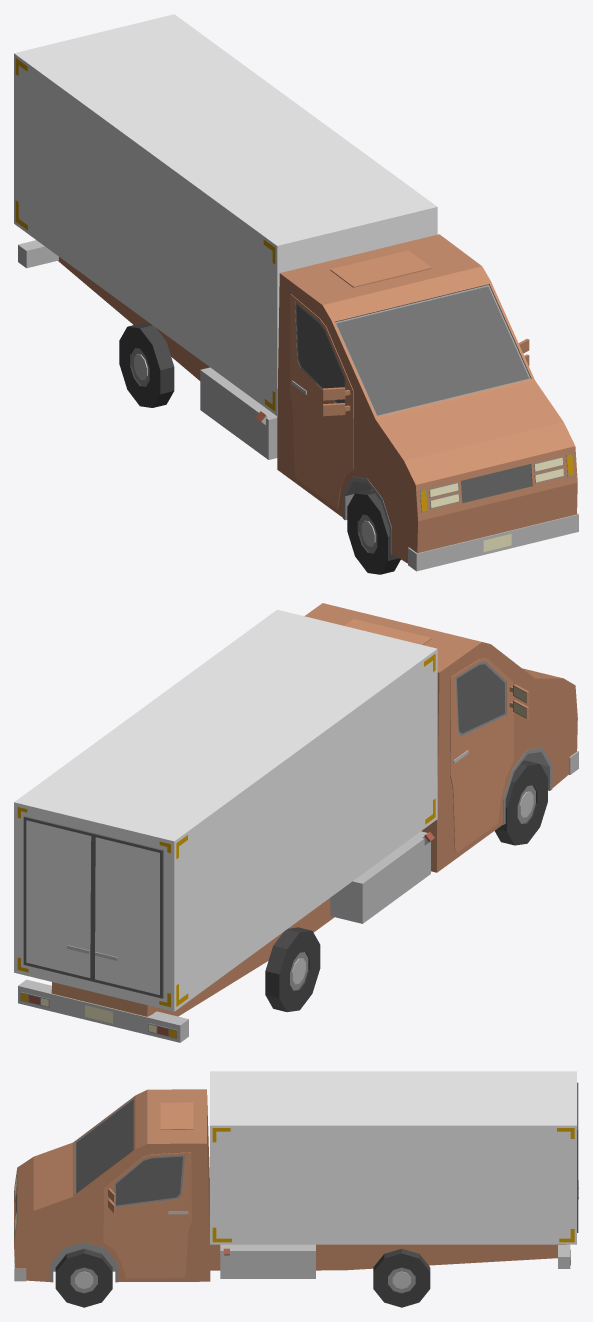
File: truck_2.fbx
3 renders of one model, top to bottom at view 1: azimuth 30°, elevation 25°; view 2: azimuth 150°, elevation 25°; view 3: azimuth 270°, elevation 25°, orthographic. The views are drawn at different scales.
Visible parts, largest first — view 1: wwq, Cylinder_2_3, Cylinder_2_1; view 2: wwq, Cylinder_2_3, Cylinder_2_1; view 3: wwq, Cylinder_2, Cylinder_2_2.
Boxes of the visible parts, left/top/right/bottom form: wwq: left=14, top=14, right=578, bottom=571; Cylinder_2_3: left=119, top=323, right=174, bottom=407; Cylinder_2_1: left=347, top=490, right=400, bottom=574; wwq: left=14, top=603, right=578, bottom=1042; Cylinder_2_3: left=265, top=927, right=320, bottom=1012; Cylinder_2_1: left=495, top=760, right=547, bottom=845; wwq: left=14, top=1071, right=578, bottom=1282; Cylinder_2: left=55, top=1248, right=112, bottom=1307; Cylinder_2_2: left=373, top=1248, right=430, bottom=1307.
Size of the model in its own units: 169 by 205 by 576.
